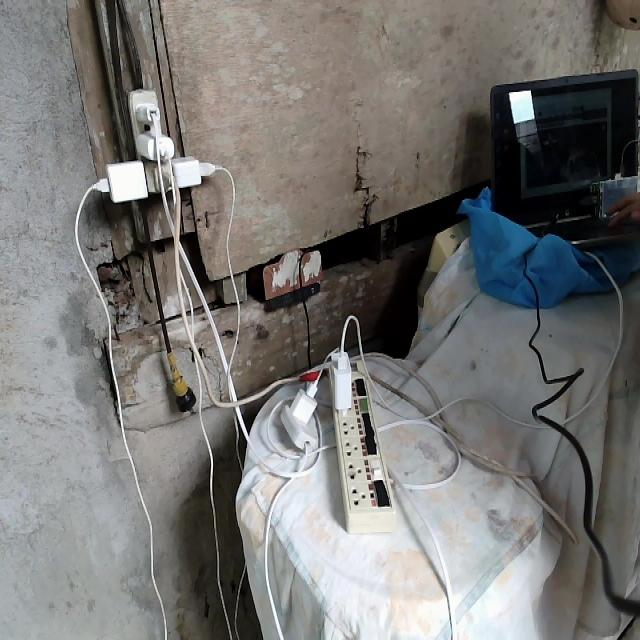-: (86, 84, 215, 203)
